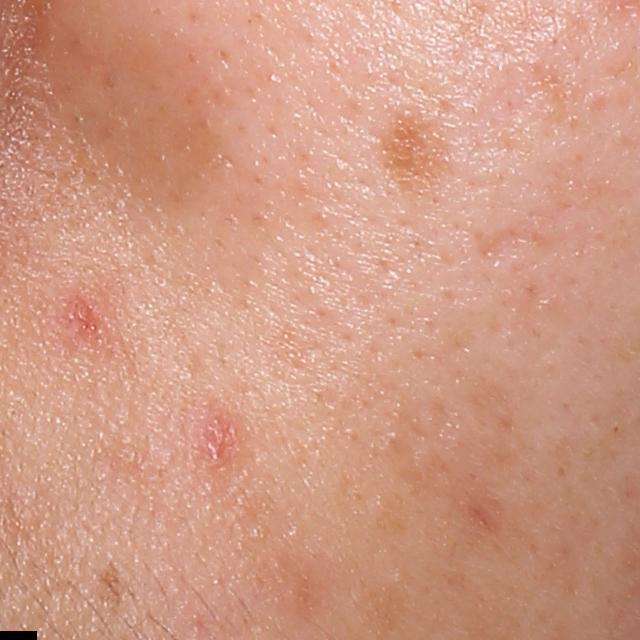atrophic_scar: (478, 225, 532, 265)
melasma: (382, 111, 453, 191)
